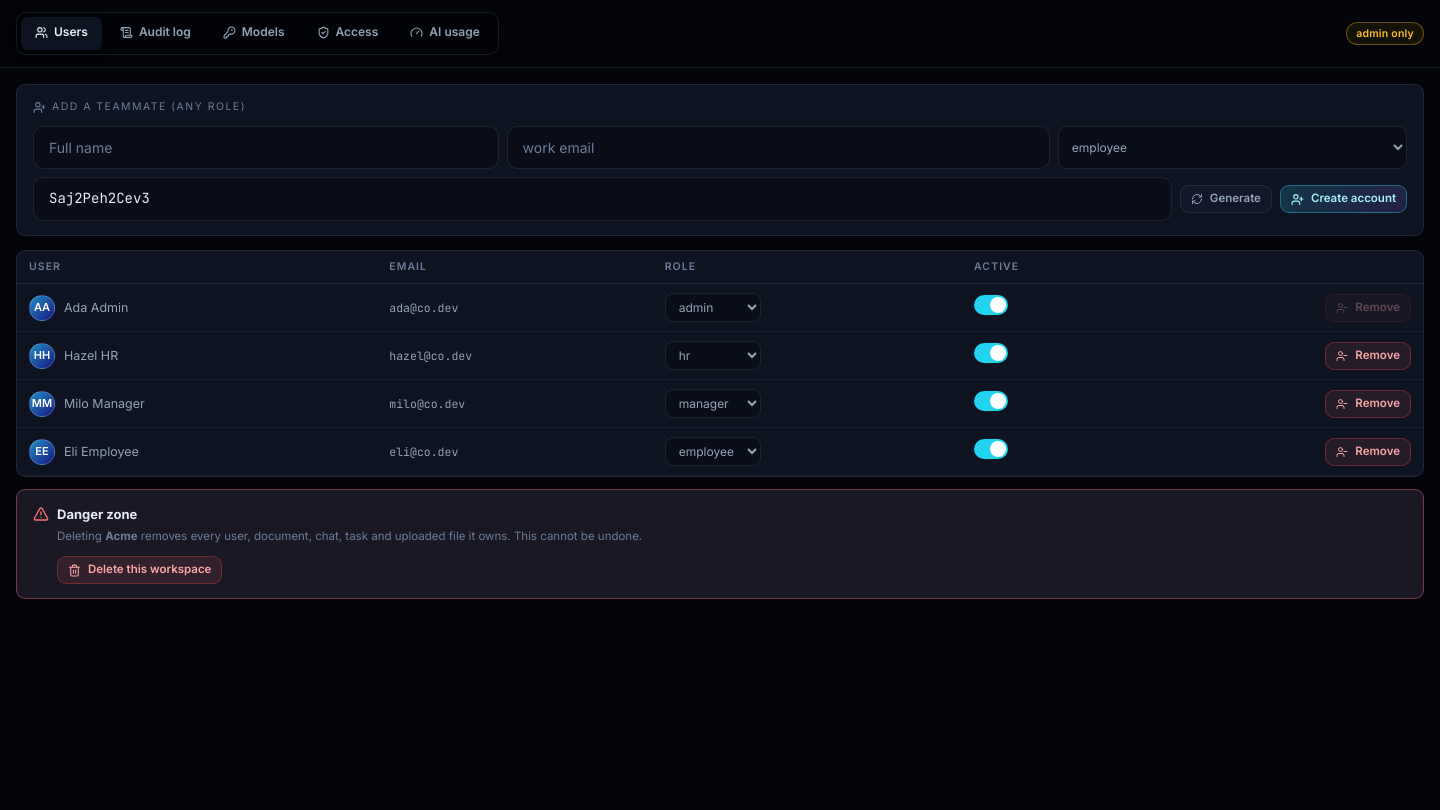
the confirmation › points at deactivation as the reversible option
Click the button "Remove" in the row of "Eli Employee" at (1368, 452), box x1=1325 y1=438 x2=1411 y2=466
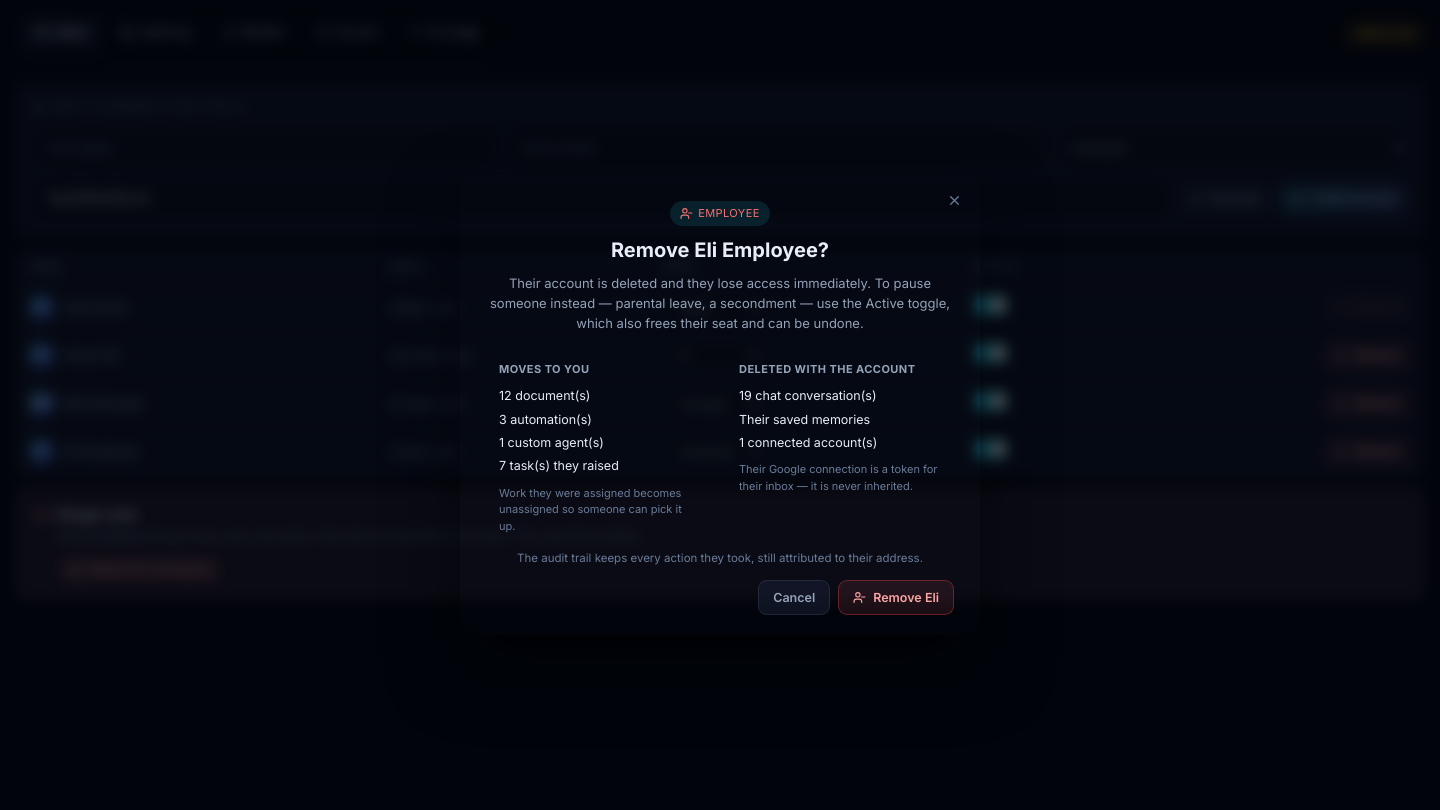
Expected: the element with test id "remove-dialog" shows "Active toggle", x1=490 y1=275 x2=950 y2=331
Expected: the element with test id "remove-dialog" shows "frees their seat", x1=490 y1=275 x2=950 y2=331
